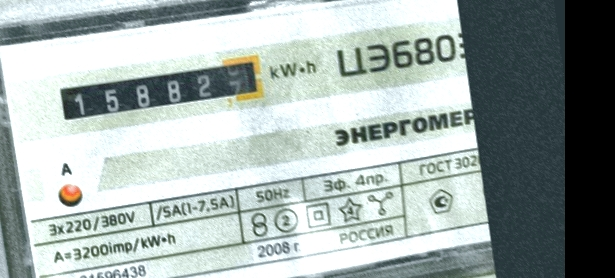1: (71, 91, 87, 119)
2: (194, 74, 214, 101)
5: (102, 88, 120, 116)
7: (226, 78, 243, 97)
8: (133, 83, 152, 110), (165, 79, 183, 106)
screen: (48, 50, 273, 137)
